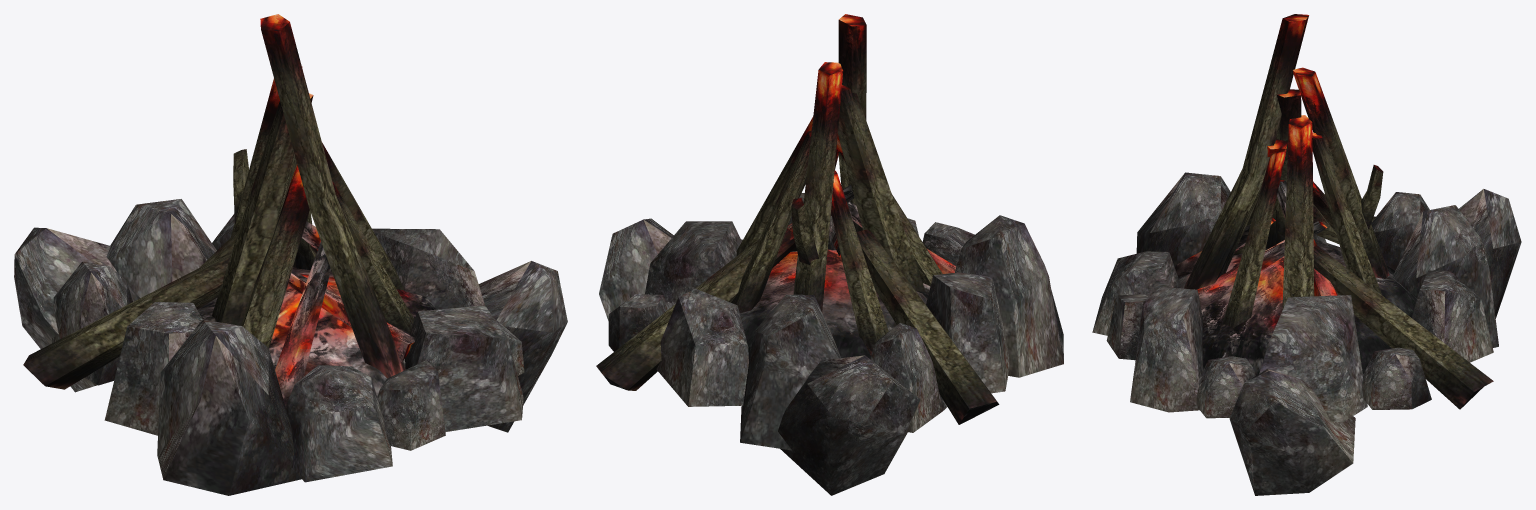
Rendered from thing_campfire_stone.glb.
3 renders of one model, left to right at view 1: azimuth 30°, elevation 25°; view 2: azimuth 150°, elevation 25°; view 3: azimuth 270°, elevation 25°, orthographic. The views are drawn at different scales.
Parts seen in each view (by area): view 1: thing_campfire_stone; view 2: thing_campfire_stone; view 3: thing_campfire_stone.
Boxes of the visible parts, <box> form: thing_campfire_stone: <box>14,14,567,495</box>; thing_campfire_stone: <box>596,14,1063,495</box>; thing_campfire_stone: <box>1092,14,1521,495</box>.
Bounding box in the file's own units: 8.12 × 7.3 × 7.27.
Materials: 1 (1 with a texture image).
